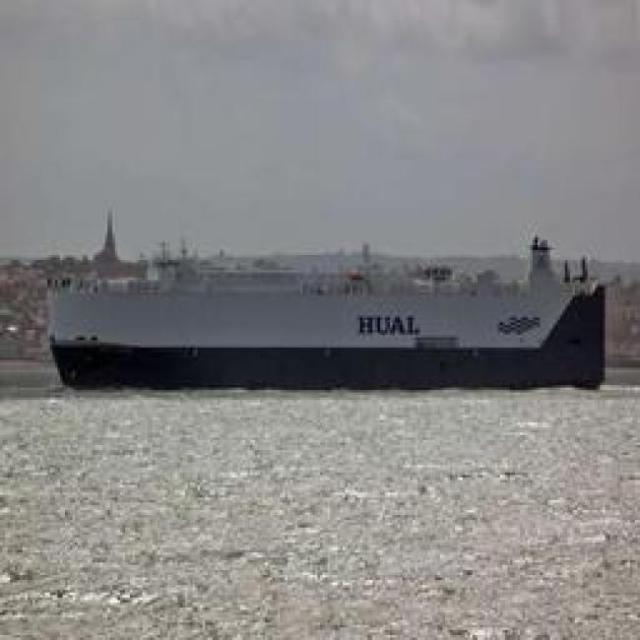boat: (13, 263, 619, 404)
